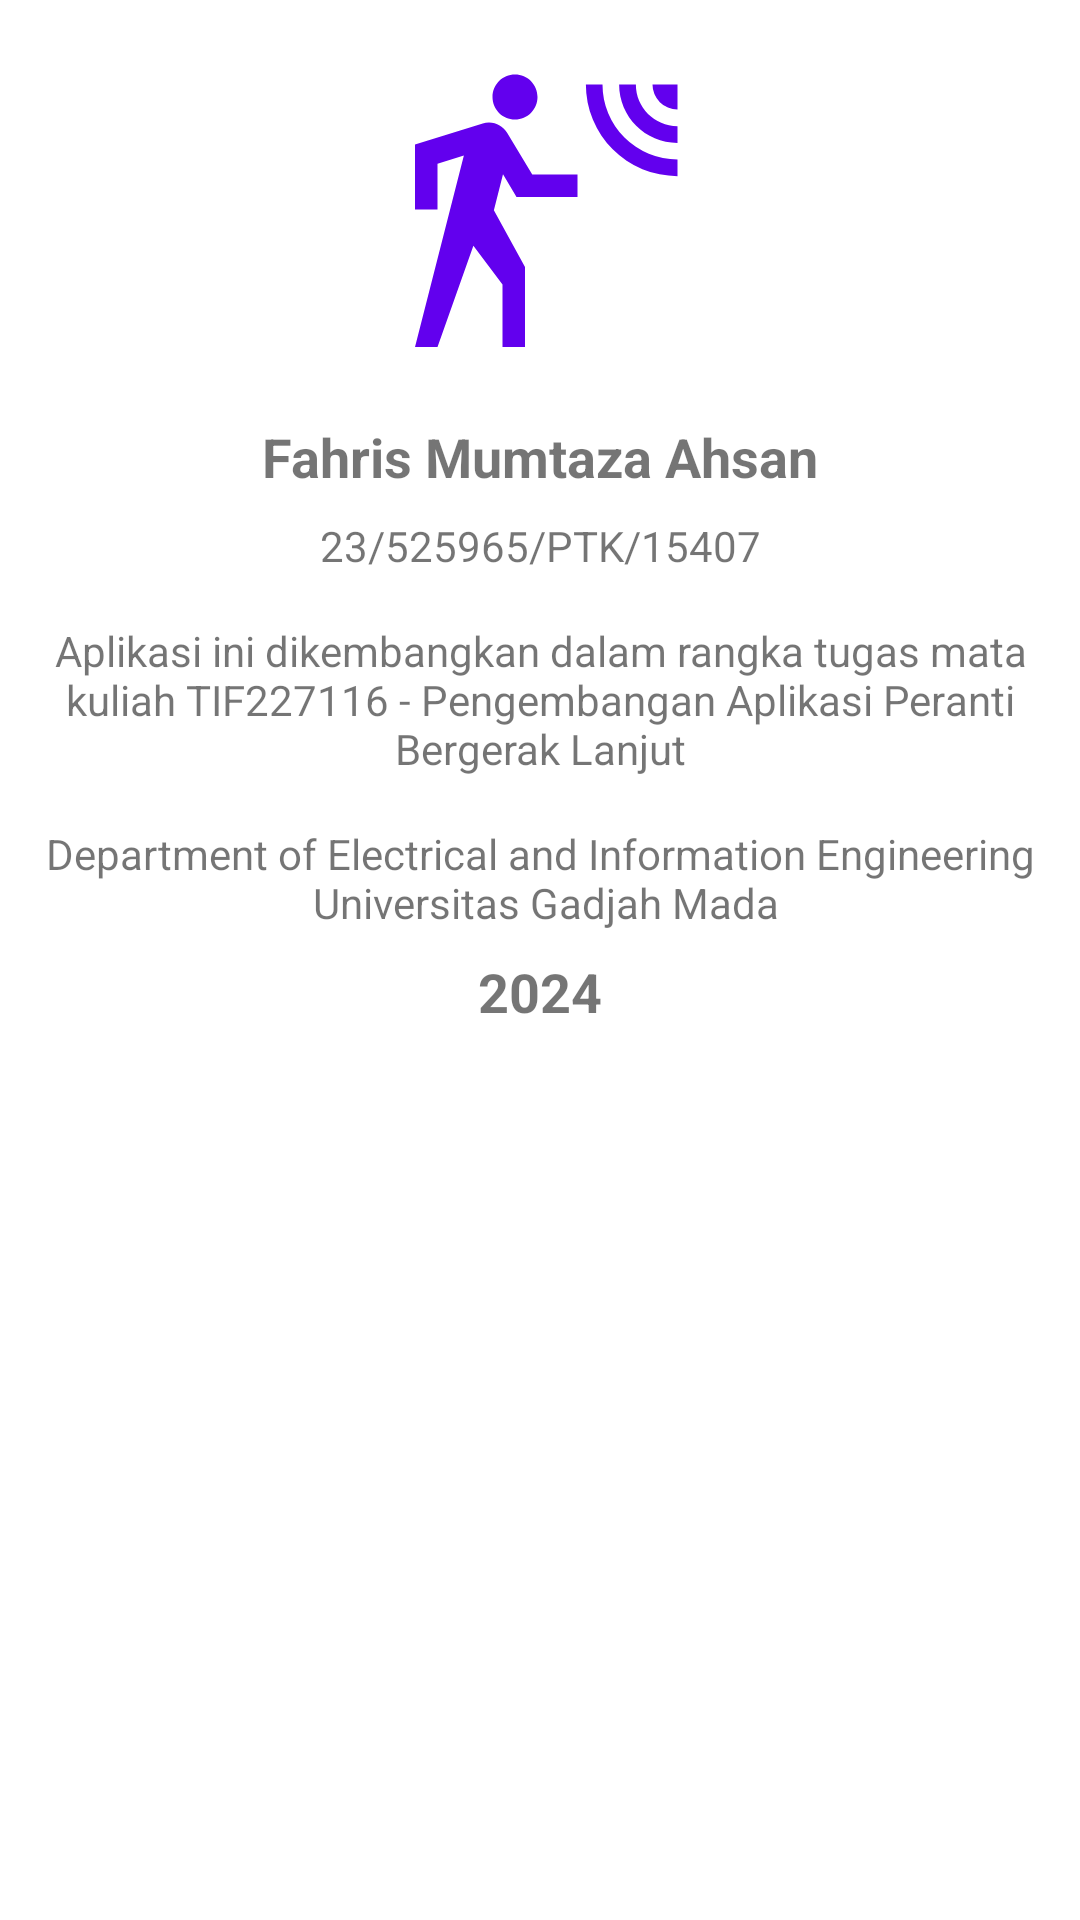

Where icons sit on this 1080×1920 app screen, as box=[x1, y1, x2, y2]:
motion sensor: box=[415, 74, 678, 347]
